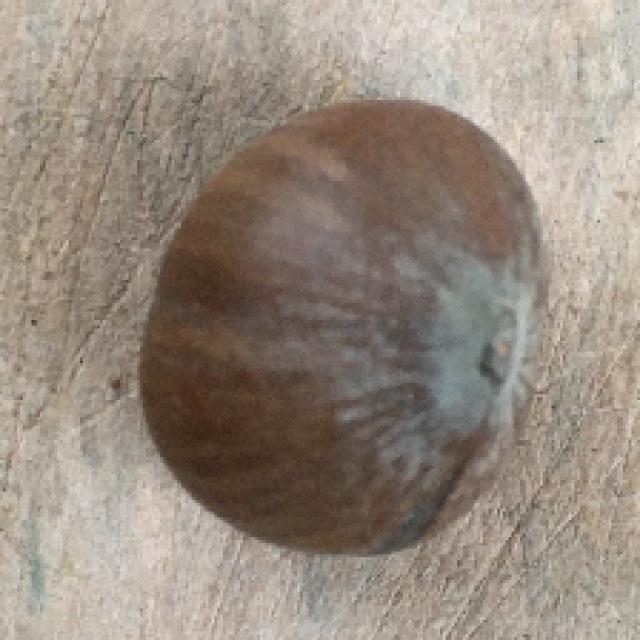damagedHazelnut: (138, 92, 551, 562)
